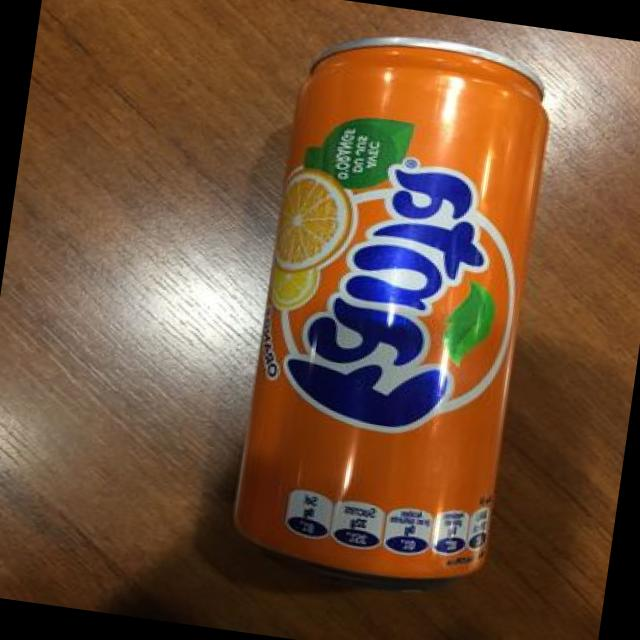fanta: (208, 23, 568, 596)
